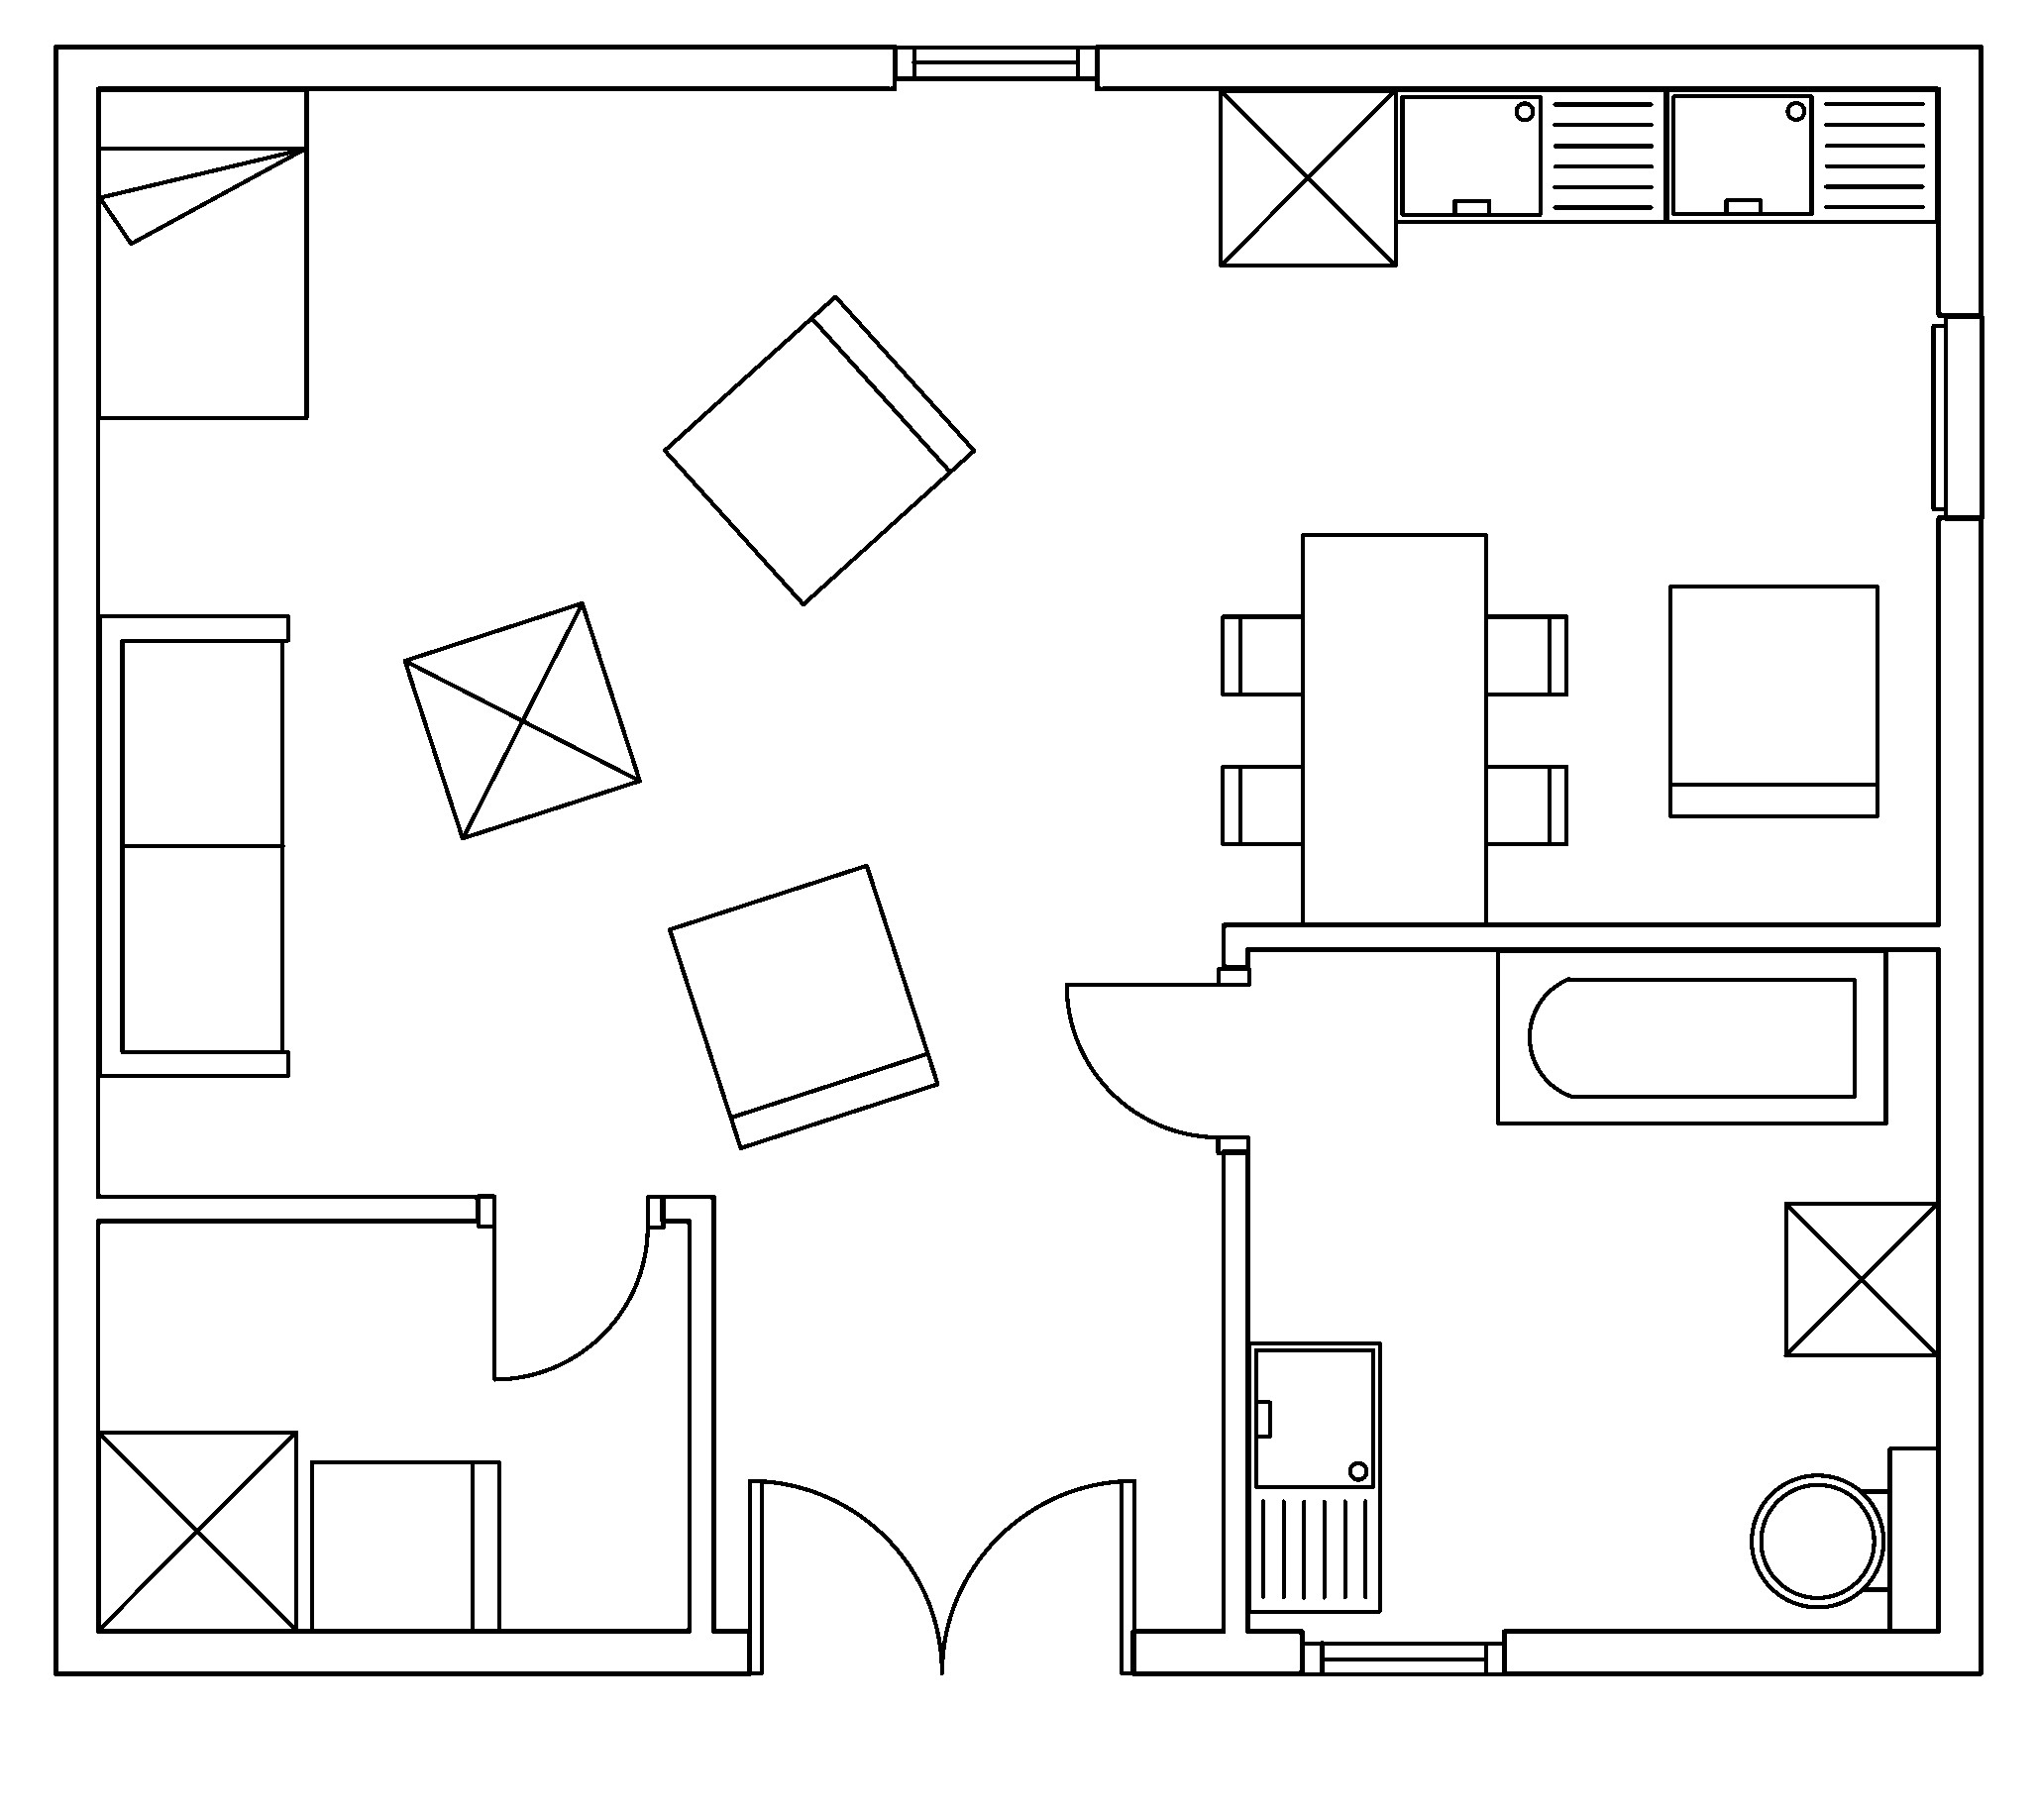bed: (95, 86, 309, 420)
coffee_table: (402, 599, 643, 840), (95, 1428, 299, 1632), (1217, 86, 1398, 267), (1781, 1200, 1940, 1358)
dining_table: (1219, 531, 1568, 926)
large_sink: (1749, 1444, 1940, 1632)
large_sofa: (97, 613, 290, 1079)
sink: (1663, 86, 1940, 223), (1245, 1339, 1382, 1614), (1393, 86, 1668, 223)
small_sofa: (660, 292, 976, 606), (666, 863, 939, 1151), (1666, 583, 1879, 819), (307, 1458, 500, 1632)
tub: (1494, 947, 1888, 1126)
